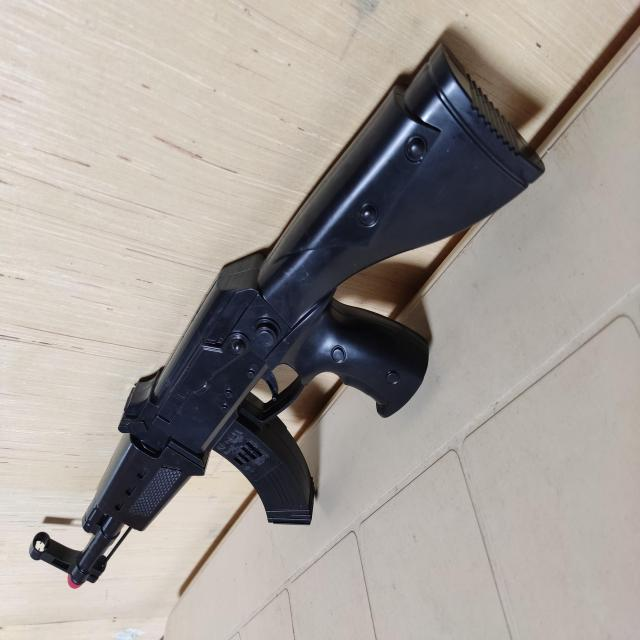rifle: (27, 37, 553, 596)
